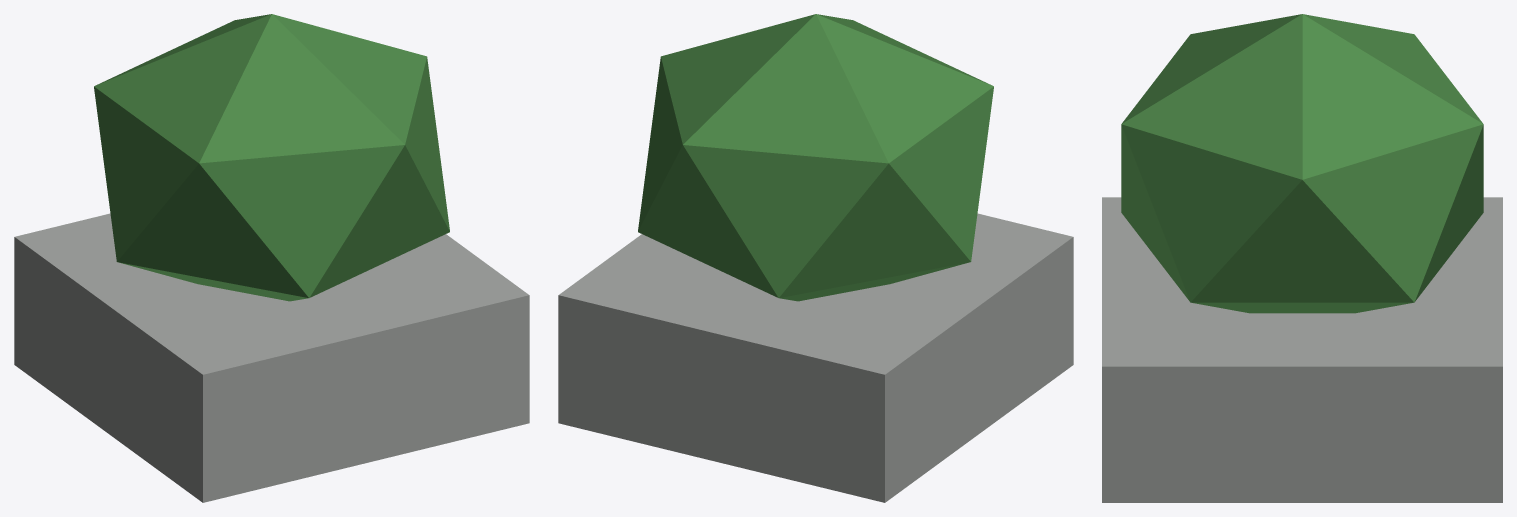
The model's file is planter.glb.
3 views of the same model, side by side, from view 1: azimuth 30°, elevation 25°; view 2: azimuth 150°, elevation 25°; view 3: azimuth 270°, elevation 25° (orthographic). The views are drawn at different scales.
Parts seen in each view (by area): view 1: Cube.001; view 2: Cube.001; view 3: Cube.001.
Part boxes in pixels (bbox=[...]): Cube.001: bbox=[14, 14, 529, 502]; Cube.001: bbox=[558, 14, 1073, 502]; Cube.001: bbox=[1102, 14, 1502, 502].
Size of the model in its own units: 1.6 by 1.78 by 1.6.
